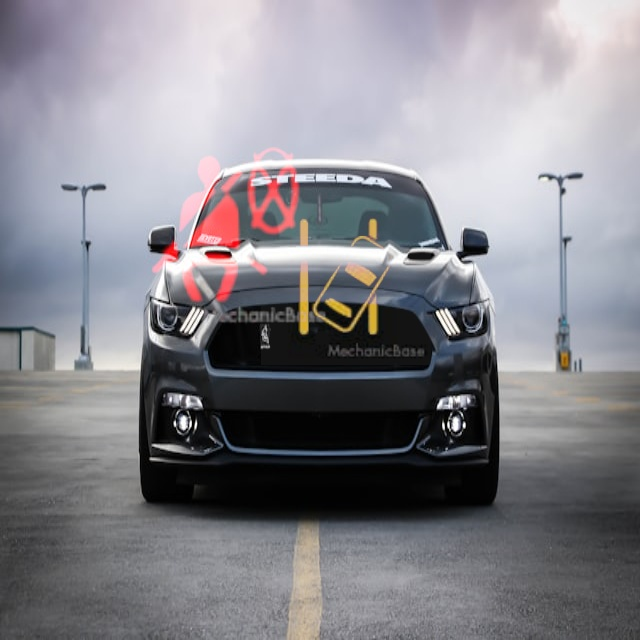symbol: (117, 116, 334, 333), (261, 195, 431, 365)
